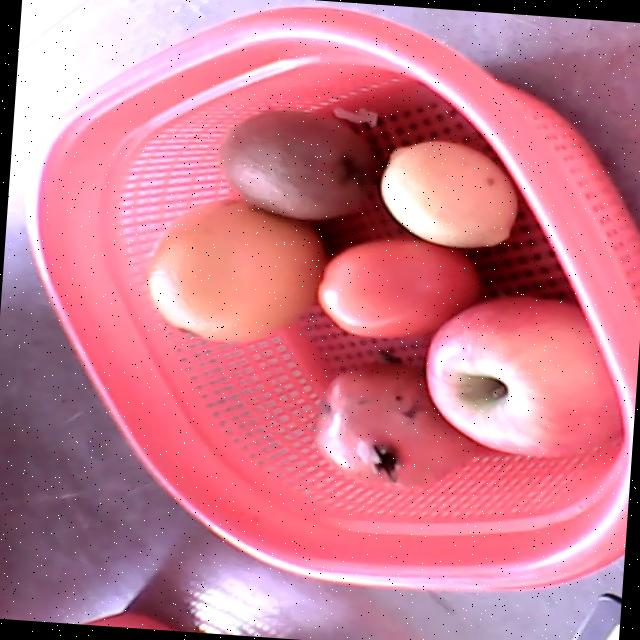apple: (425, 294, 624, 458)
kiwi: (216, 110, 376, 219)
lemon: (380, 140, 518, 247)
orange: (147, 198, 326, 341)
pomegranate: (313, 365, 476, 494)
tomato: (318, 235, 480, 337)
